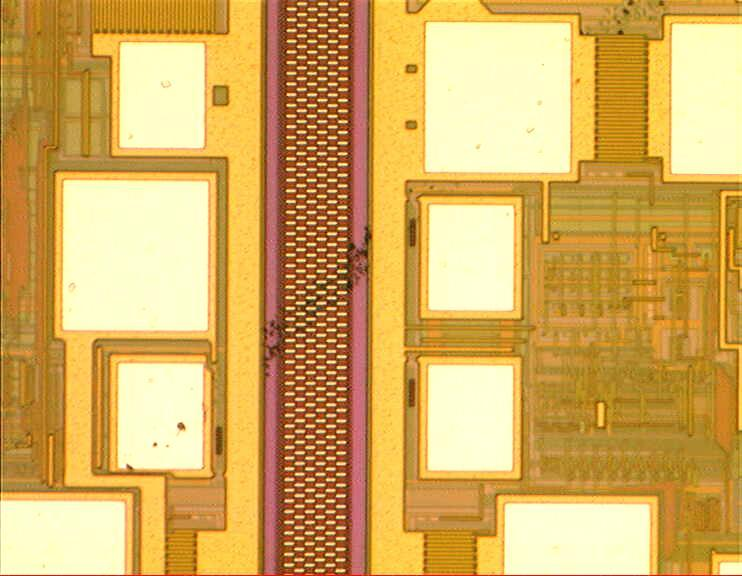SCRATCH: (112, 1, 670, 482)
